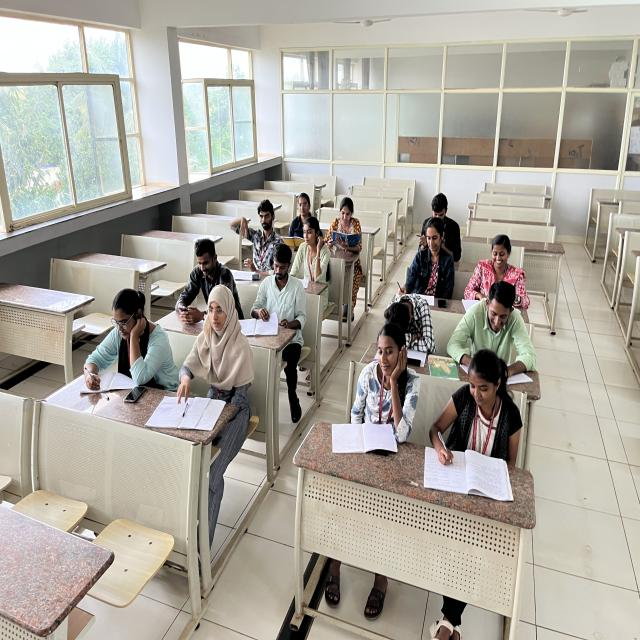Hand Rising: (236, 199, 286, 267)
Reading: (250, 238, 306, 330), (324, 200, 363, 257)
Sleeping: (372, 292, 437, 351)
Using Phone: (172, 235, 236, 323)
Writing: (428, 355, 525, 482), (80, 290, 171, 396), (388, 218, 461, 303)
